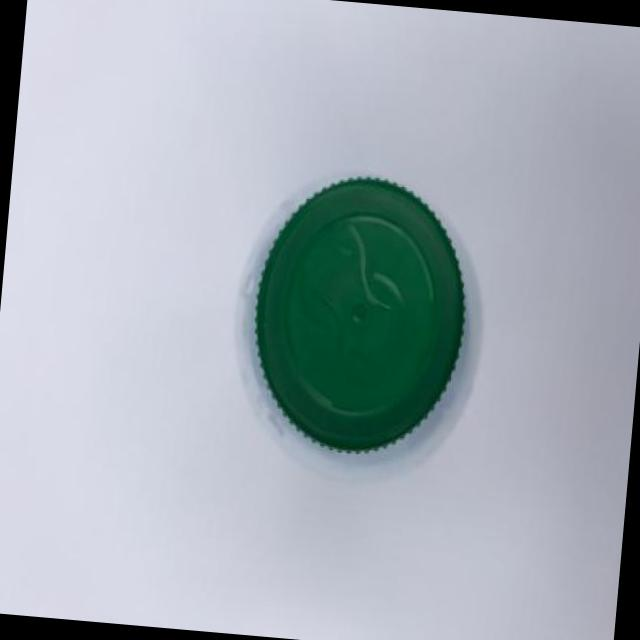plastic: (255, 178, 464, 451)
